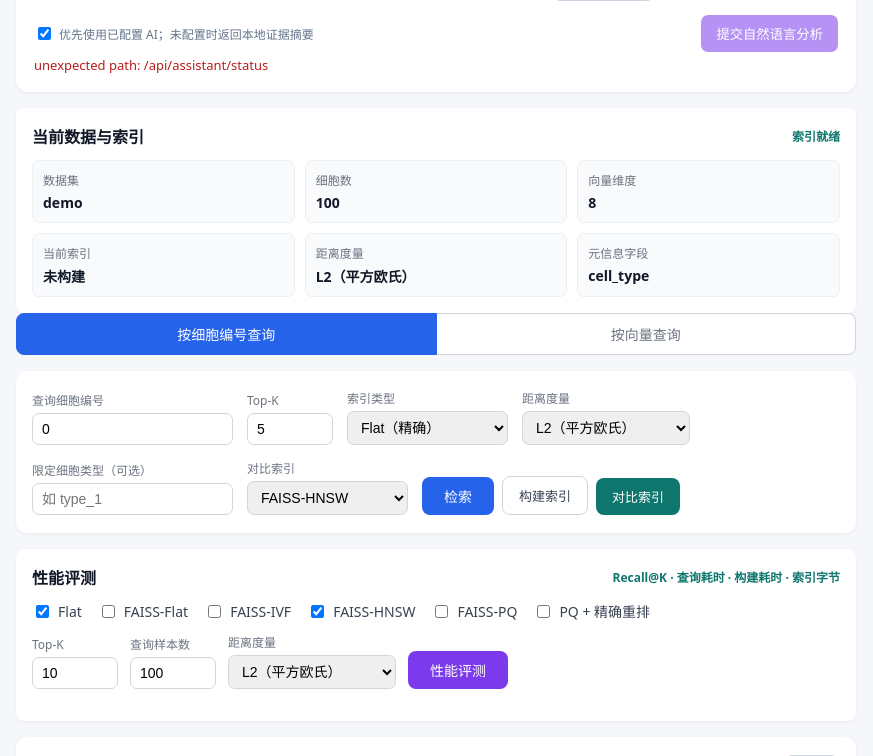
Test: App authentication gate › surfaces comparison validation errors instead of rejecting silently
(page scrolled)
Replace the text in the 4th number field with "0" at (290, 429), box [247, 413, 333, 445]
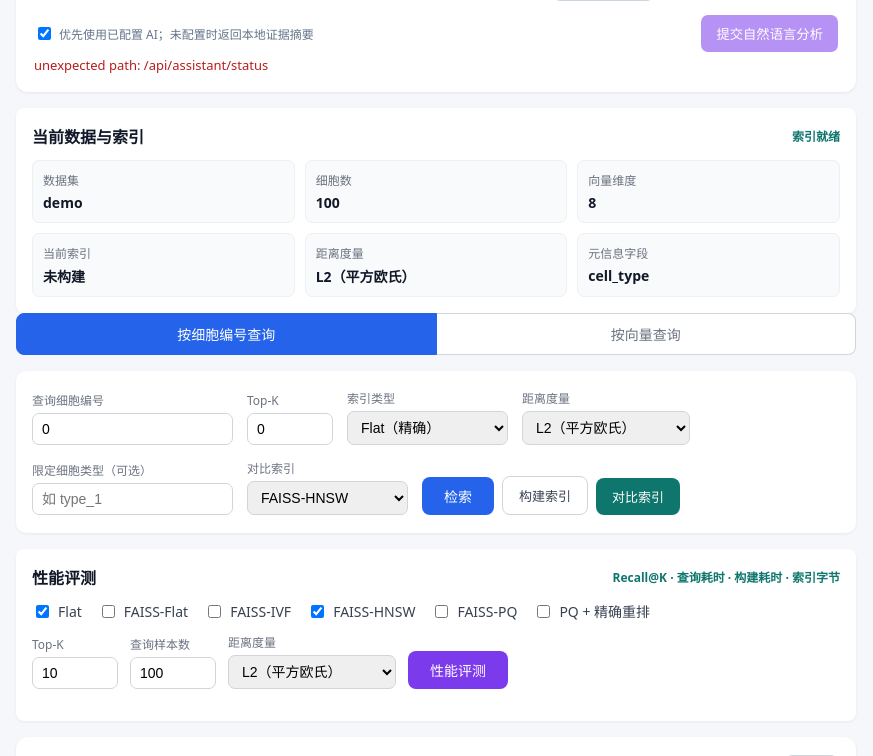
Click the button with class "btn-compare" at (638, 496), box [596, 478, 680, 515]
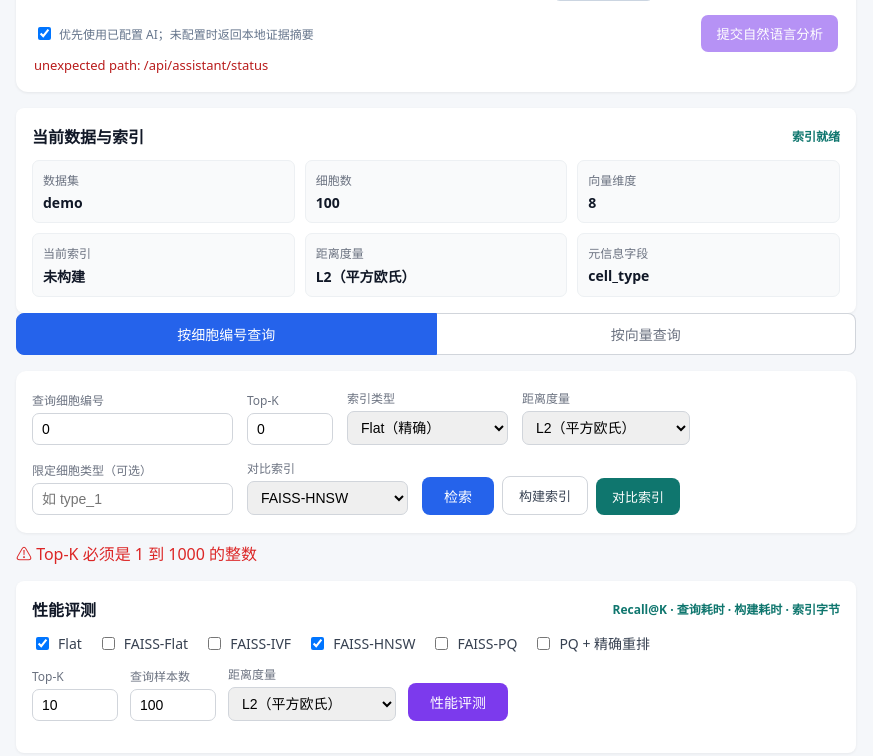
Result: the text "Top-K 必须是 1 到 1000 的整数" is shown at [16, 543, 257, 565]
